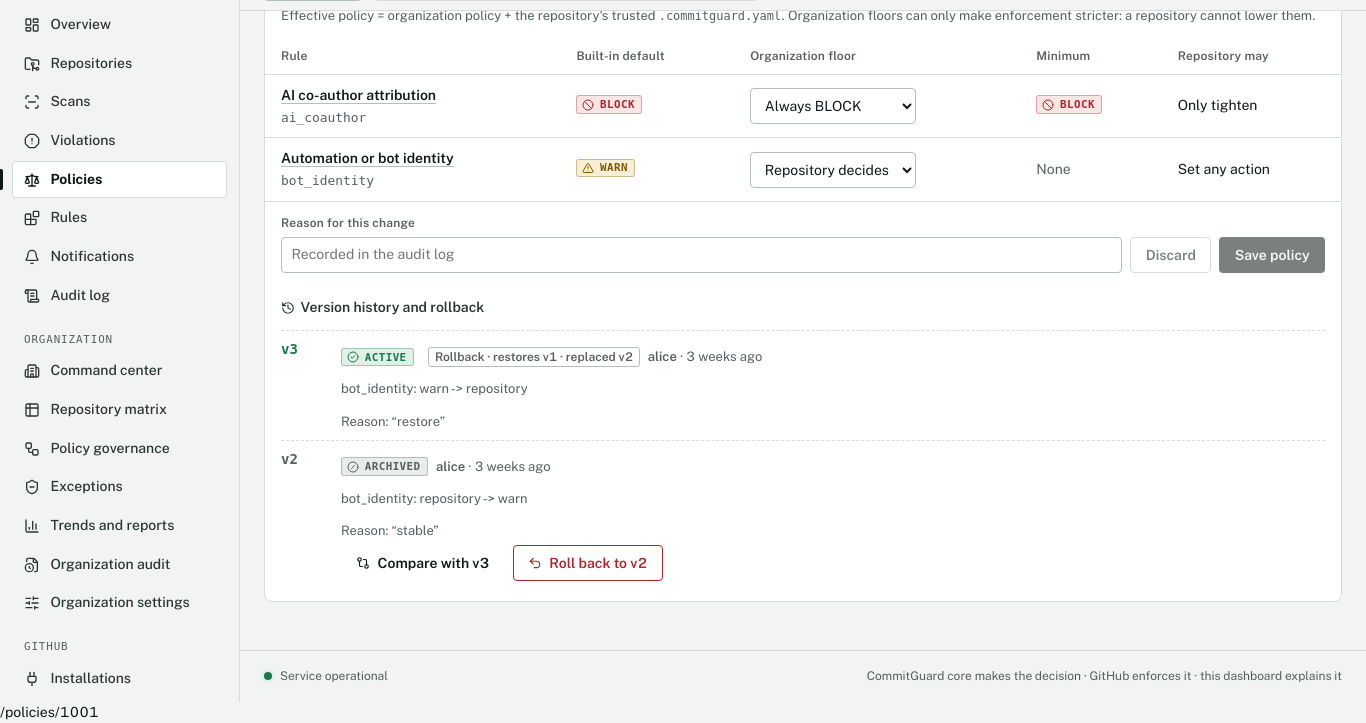
Test: policy rollback › shows lineage and requires a reason and confirmation before rolling back
(page scrolled)
Expected: the text "Rollback · restores v1 · replaced v2" is shown, [428,347,640,367]
Expected: the text "ACTIVE" is shown, [365,350,407,364]
Step 1. Click the button "Roll back to v2" → [588, 563], box [513,545,663,581]
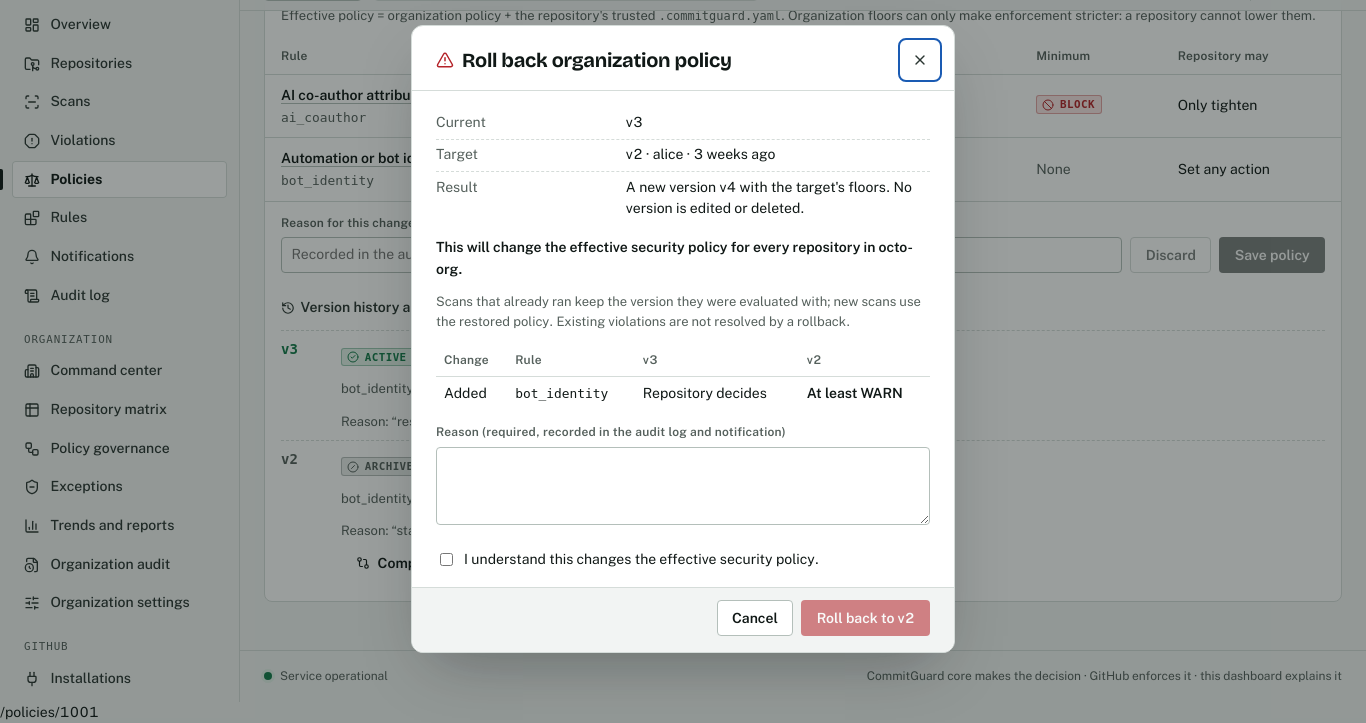
Expected: the text "This will change the effective security policy" is shown, [436,239,879,255]
Expected: the table named "Impact of the rollback" is shown, [436,344,930,411]
Expected: the button "Roll back to v2" is disabled, [801,600,930,636]
Step 2. Type "v3 broke bot identities" into the text box labelled "Reason" → [683, 486], box [436,447,930,525]
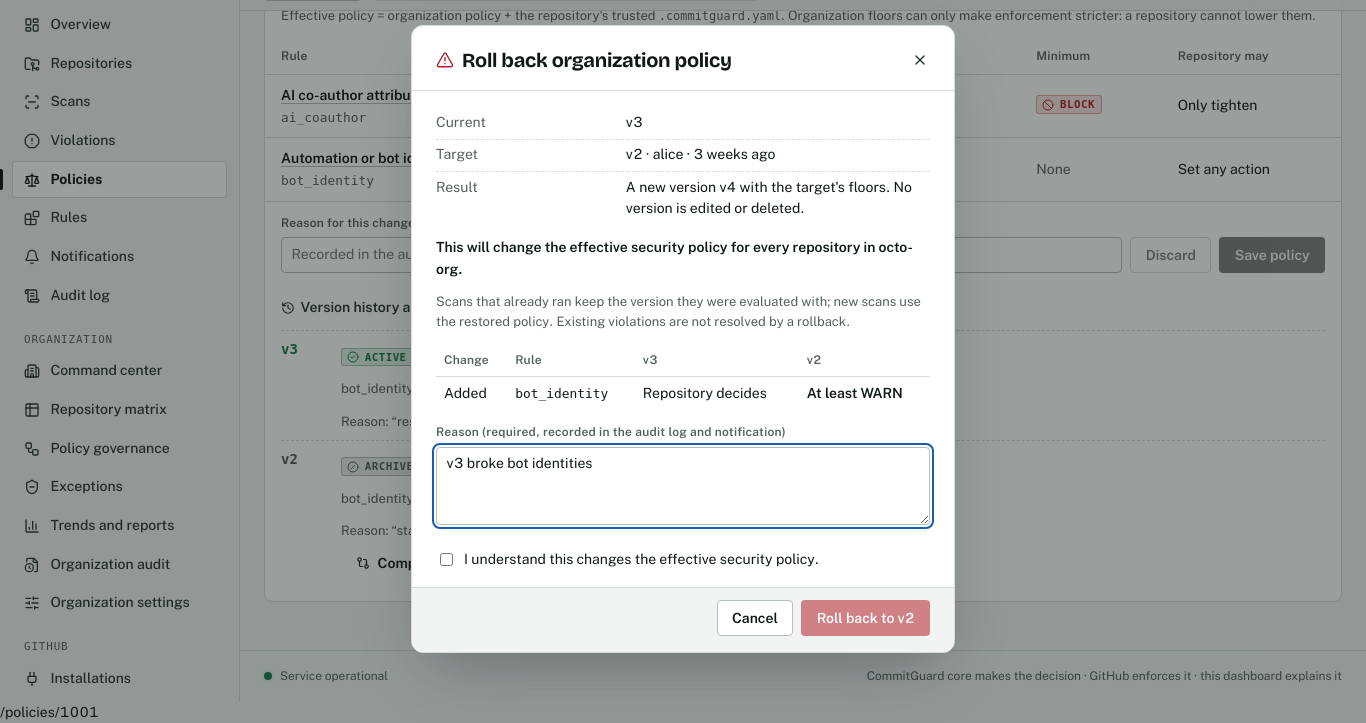
Expected: the button "Roll back to v2" is disabled, [801,600,930,636]
Step 3. Click the checkbox labelled "I understand this changes the effective security policy." → [446, 560], box [440,553,453,566]
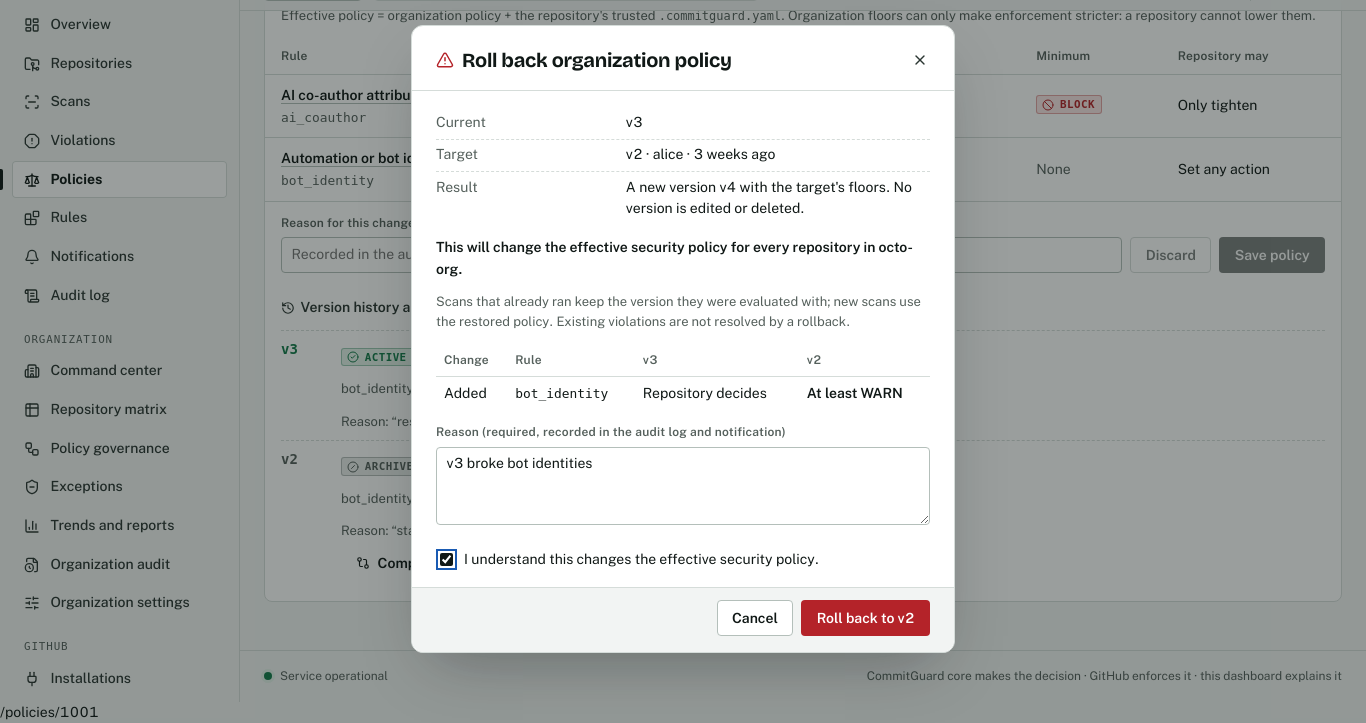
Expected: the button "Roll back to v2" is enabled
Step 4. Click the button "Roll back to v2" → [866, 618], box [801,600,930,636]
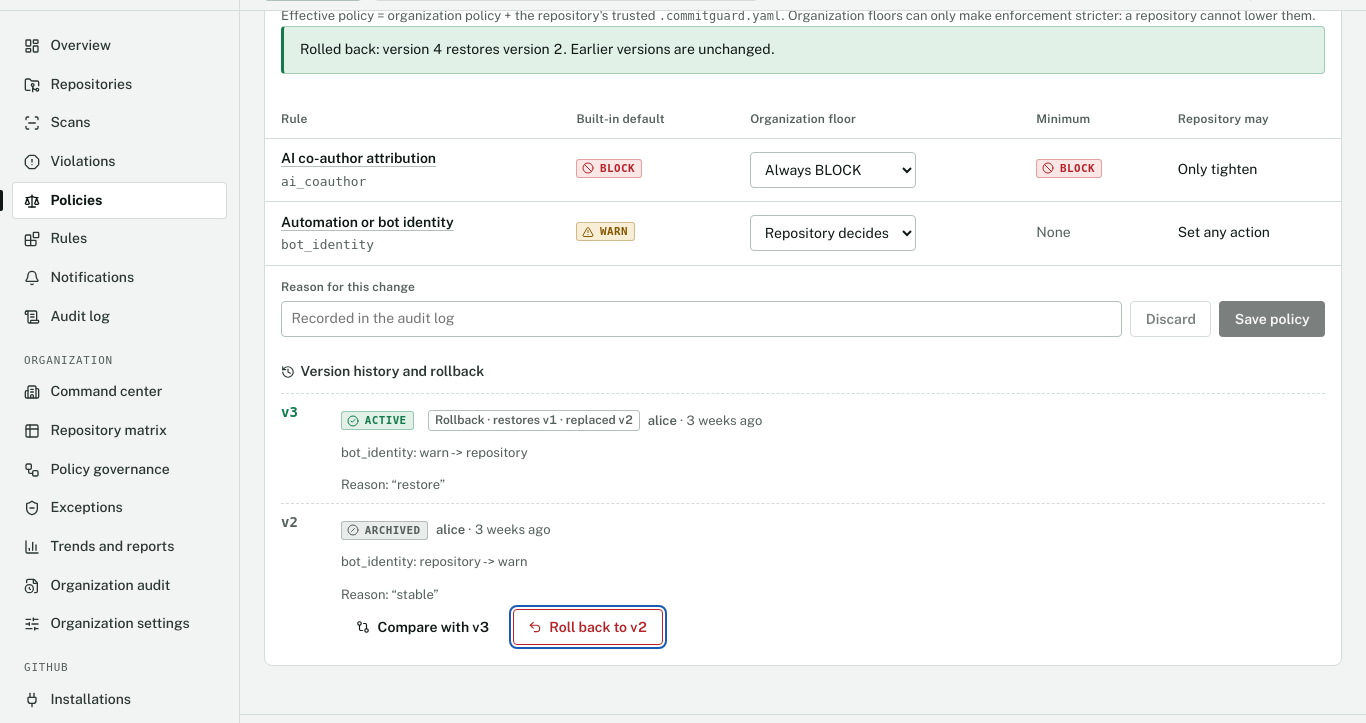
Expected: the text "version 4 restores version 2" is shown, [300,41,775,57]
